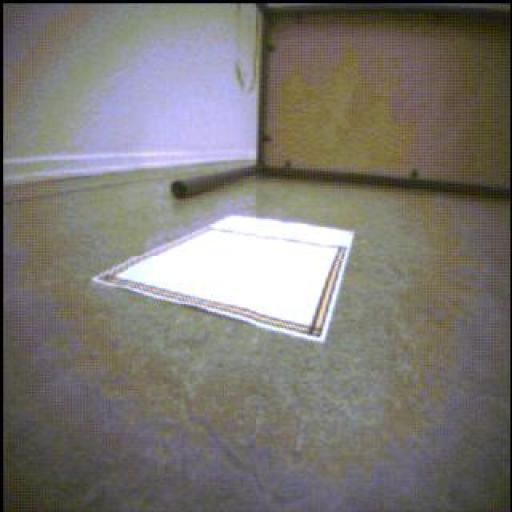Pad: (96, 217, 355, 343)
